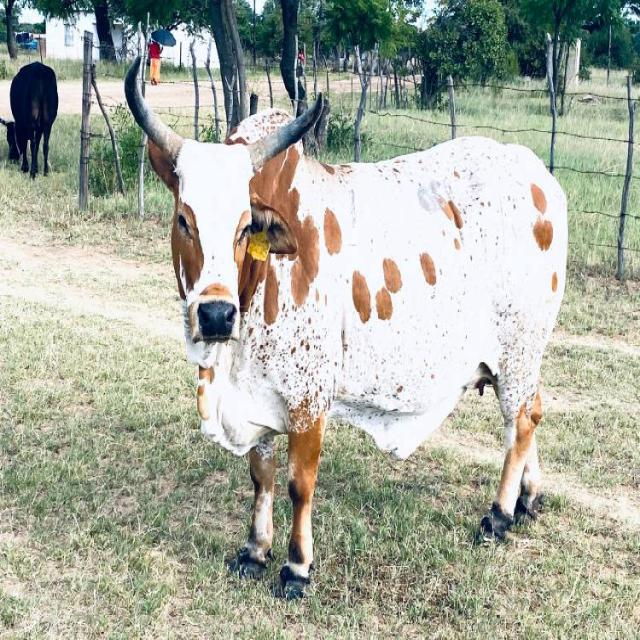cowFace: (117, 55, 317, 358)
